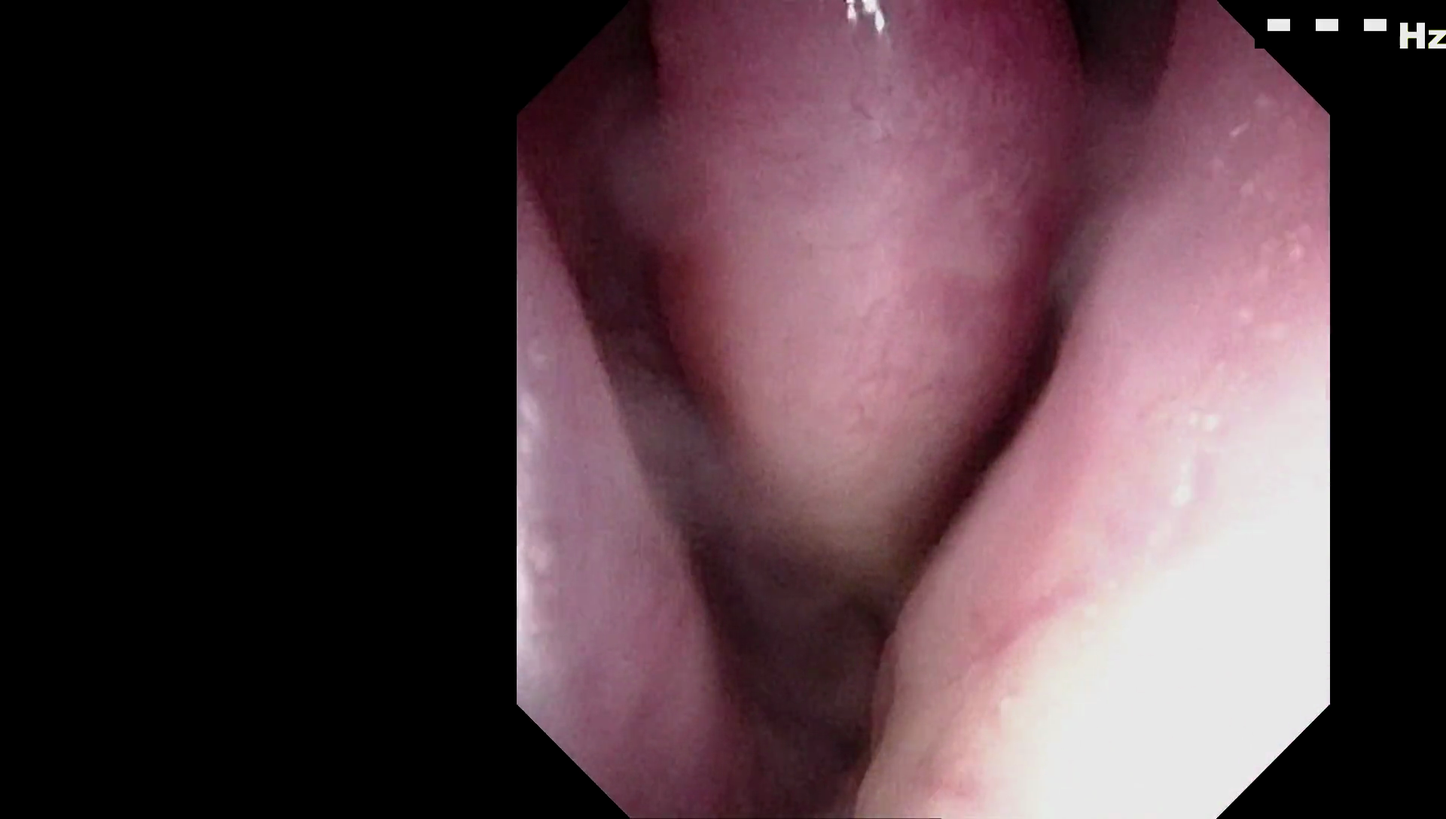close_wall: (989, 383, 1311, 805)
next: (679, 503, 894, 819), (913, 275, 1086, 564), (1041, 0, 1186, 108)
